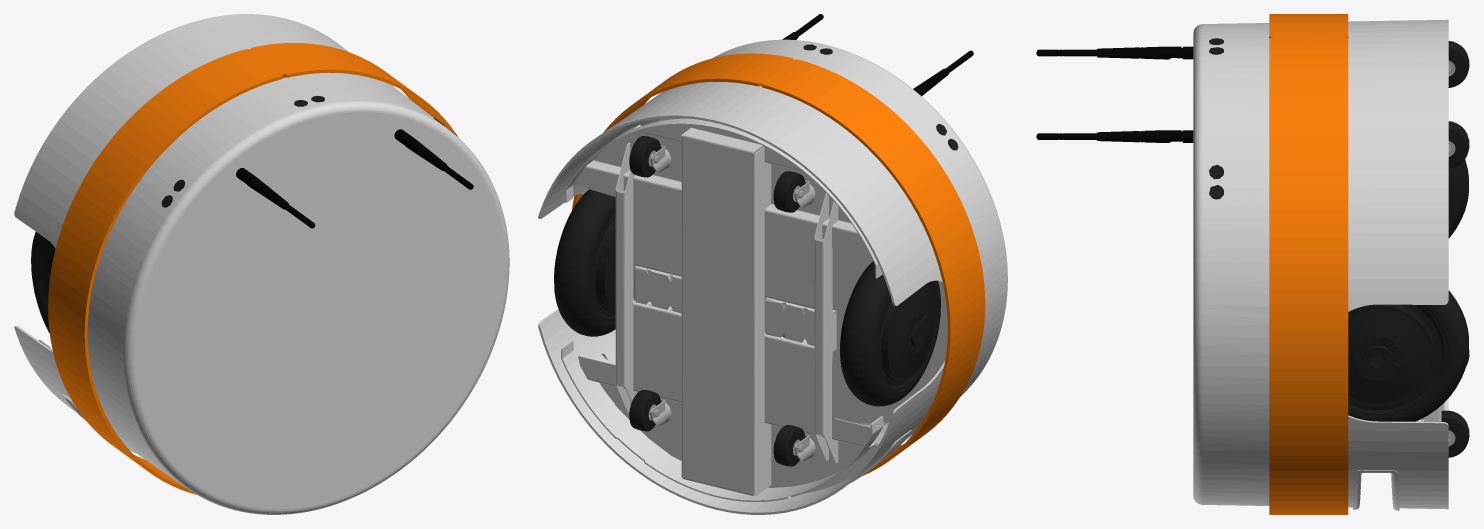
3 renders of one model, left to right at view 1: azimuth 30°, elevation 25°; view 2: azimuth 150°, elevation 25°; view 3: azimuth 270°, elevation 25°, orthographic. The views are drawn at different scales.
Parts seen in each view (by area): view 1: base_link, base_cover_link, wheel_right_link, base_antenna_left_link, base_antenna_right_link; view 2: base_link, base_cover_link, wheel_right_link, wheel_left_link, caster_back_right_2_link, caster_back_left_2_link, caster_front_right_2_link, caster_front_left_2_link, base_antenna_right_link; view 3: base_link, base_cover_link, wheel_left_link, base_antenna_right_link, base_antenna_left_link, wheel_right_link, caster_front_left_2_link, caster_back_left_2_link, caster_back_right_2_link.
Part boxes in pixels (x1,y1,x2,y2): base_link: (14,14,509,514); base_cover_link: (48,43,458,494); wheel_right_link: (31,232,55,333); base_antenna_left_link: (394,129,473,189); base_antenna_right_link: (236,168,315,228); base_link: (538,39,1007,514); base_cover_link: (572,53,985,475); wheel_right_link: (840,261,940,406); wheel_left_link: (554,189,615,336); caster_back_right_2_link: (773,171,805,212); caster_back_left_2_link: (629,136,661,177); caster_front_right_2_link: (773,425,805,466); caster_front_left_2_link: (629,390,661,431); base_antenna_right_link: (913,50,973,96); base_link: (1193,19,1448,510); base_cover_link: (1269,14,1348,514); wheel_left_link: (1348,290,1468,421); base_antenna_right_link: (1036,46,1193,59); base_antenna_left_link: (1036,130,1193,142); wheel_right_link: (1448,159,1468,238); caster_front_left_2_link: (1441,410,1469,457); caster_back_left_2_link: (1448,121,1469,168); caster_back_right_2_link: (1448,41,1469,87).
Bounding box in the file's own units: 0.538 × 0.5339 × 0.4651.
